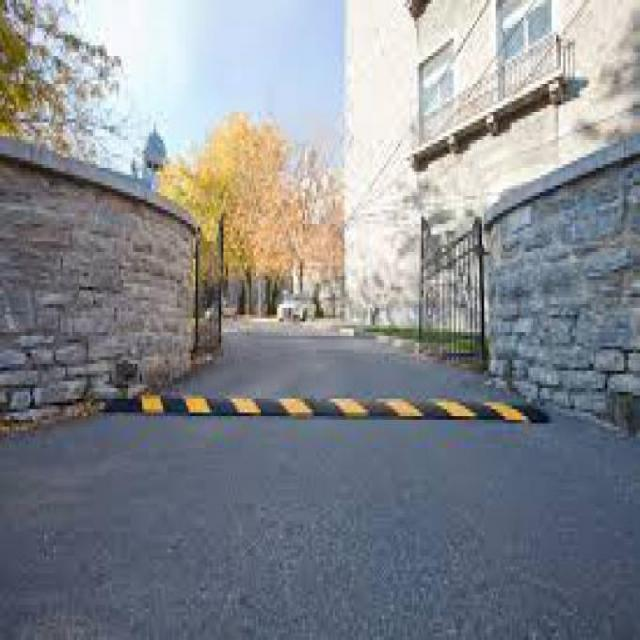Marked Bump: (130, 383, 535, 432)
